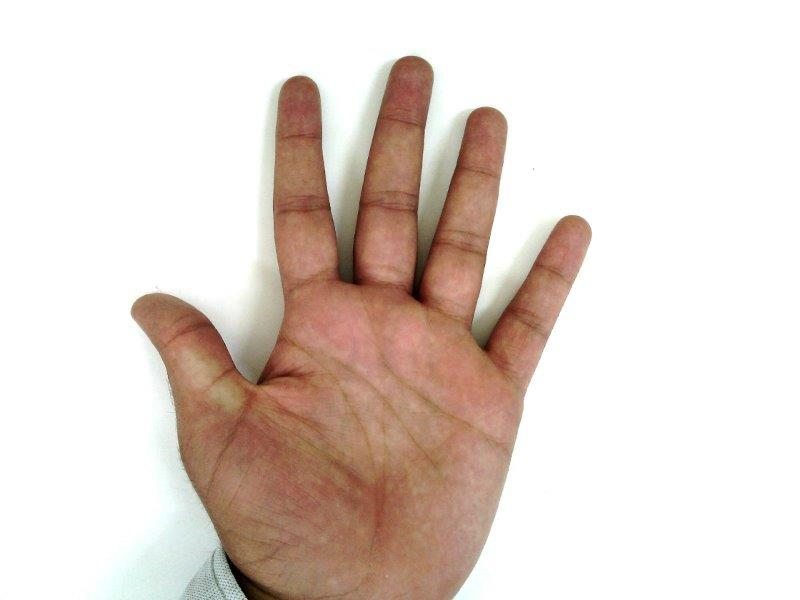hand: (130, 55, 592, 594)
